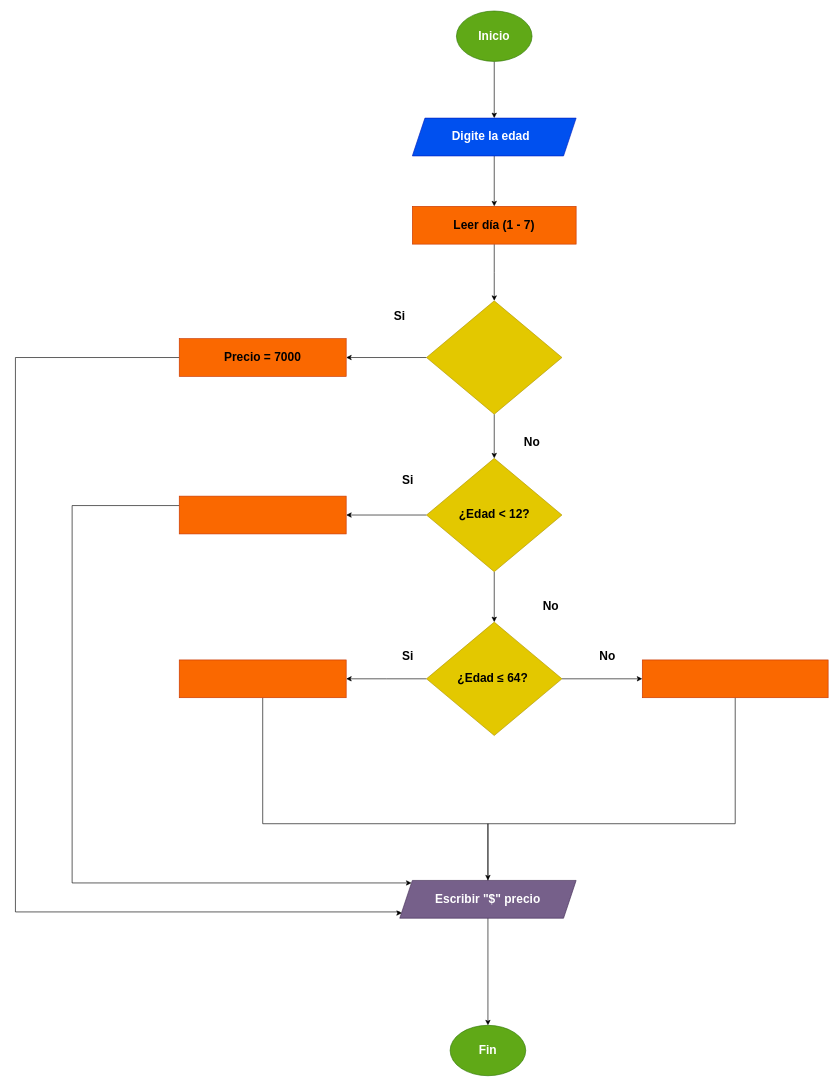
Image size: 839x1087. Some labels were removed from this diagram. The centre of each missing label's shape, as x and y in pixels:
Precio = 8000: point 262,514
Precio=10000: point 735,678
Precio=15000: point 262,678
¿Día = 3?: point 494,357
